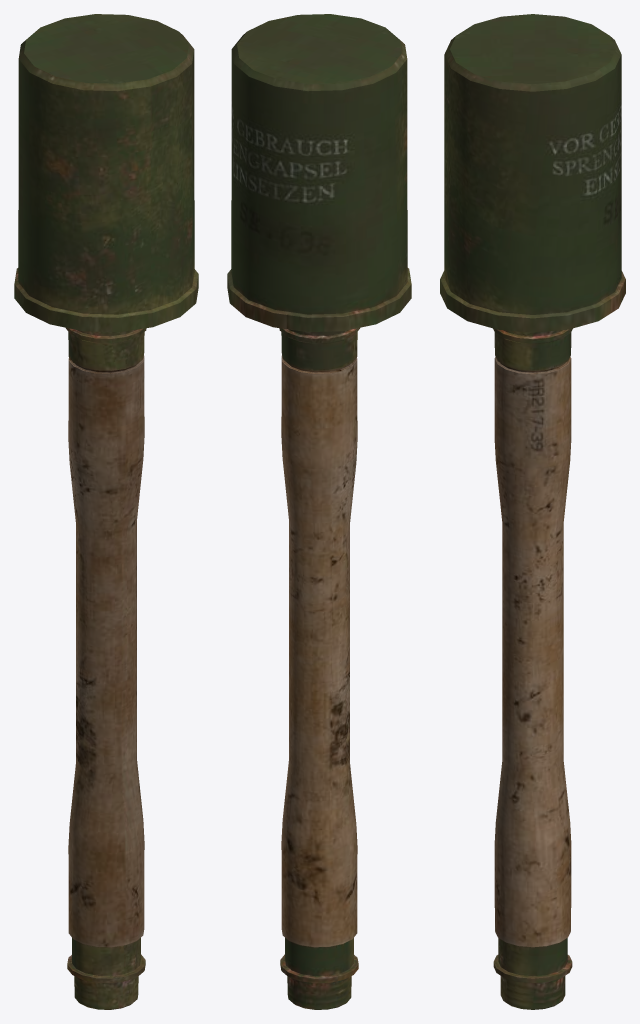
The model's file is shoulei.fbx.
The picture shows the model from 3 angles, left to right: view 1: azimuth 30°, elevation 25°; view 2: azimuth 150°, elevation 25°; view 3: azimuth 270°, elevation 25°; orthographic projection.
Parts seen in each view (by area): view 1: Stielhandgranate_low; view 2: Stielhandgranate_low; view 3: Stielhandgranate_low.
Boxes of the visible parts, x1,y1,x2,y2 form: Stielhandgranate_low: (14, 14, 198, 1009); Stielhandgranate_low: (227, 14, 411, 1009); Stielhandgranate_low: (440, 14, 625, 1009).
Size of the model in its own units: 6.29 by 35.48 by 6.29.
1 material, 1 textured.
